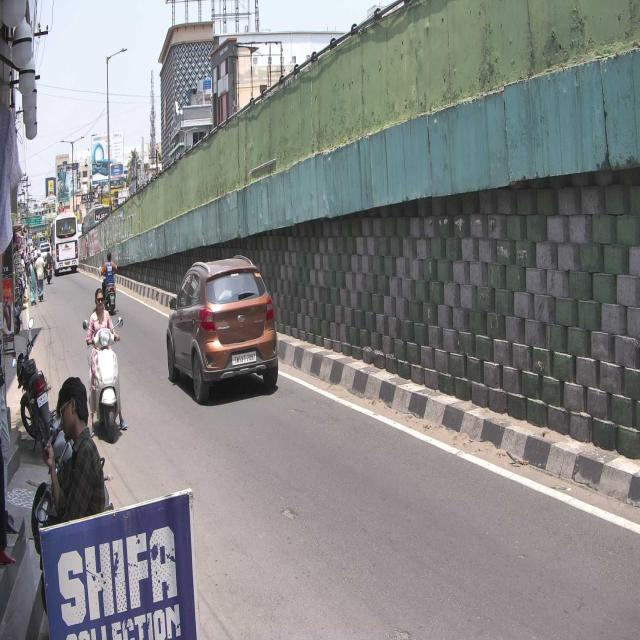single_rider: (82, 288, 128, 441)
